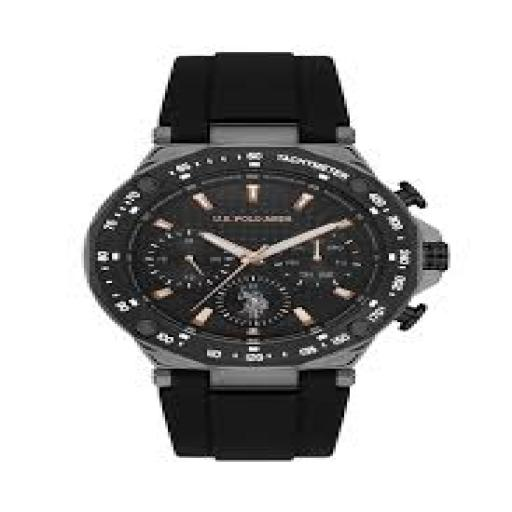KolSaati: (61, 24, 464, 479)
